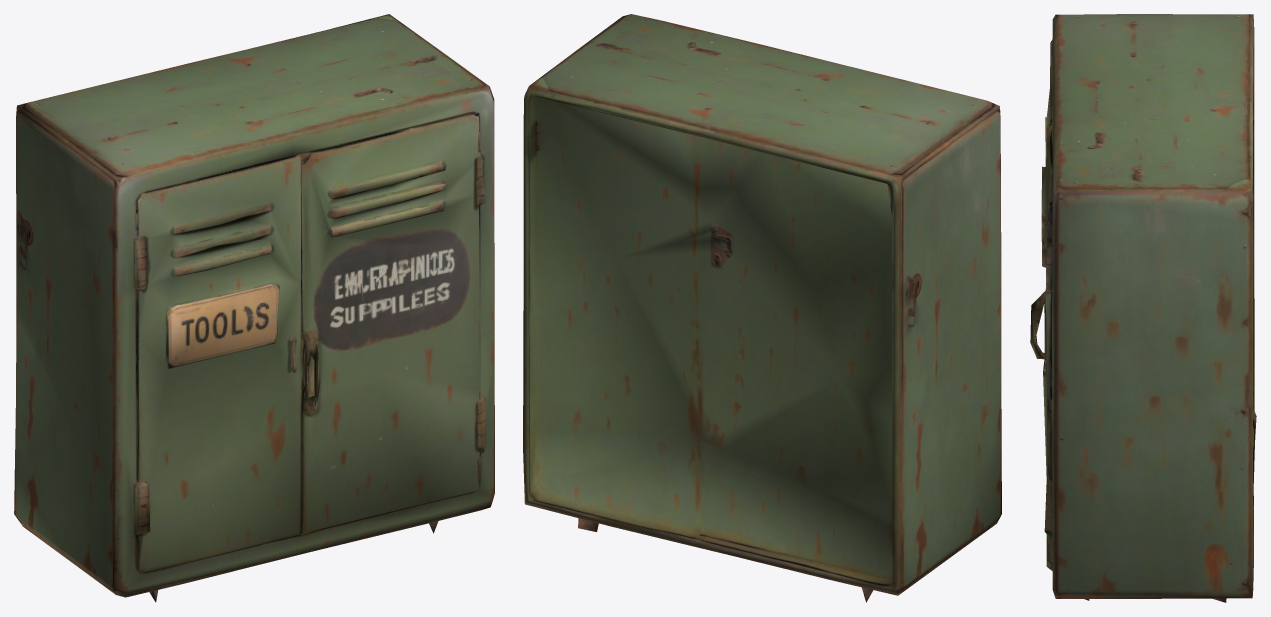
Rendered from Storage_Cabinet_0408235653_texture.glb.
3 views of the same model, side by side, from view 1: azimuth 30°, elevation 25°; view 2: azimuth 150°, elevation 25°; view 3: azimuth 270°, elevation 25° (orthographic). The views are drawn at different scales.
Visible parts, largest first — view 1: Mesh1; view 2: Mesh1; view 3: Mesh1.
Boxes of the visible parts, bbox=[...] form: Mesh1: bbox=[14, 14, 494, 602]; Mesh1: bbox=[523, 14, 1001, 602]; Mesh1: bbox=[1030, 14, 1256, 602].
Bounding box in the file's own units: 1.79 × 2.01 × 0.9395.
1 material, 1 textured.
